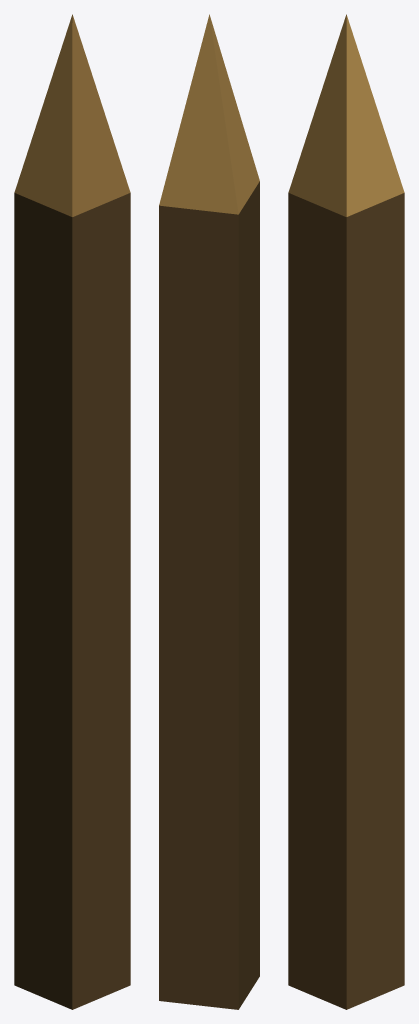
Rendered from SpikeSmall_01.fbx.
3 renders of one model, left to right at view 1: azimuth 90°, elevation 25°; view 2: azimuth 210°, elevation 25°; view 3: azimuth 270°, elevation 25°, orthographic.
Parts seen in each view (by area): view 1: SpikeSmall_01; view 2: SpikeSmall_01; view 3: SpikeSmall_01.
Part boxes in pixels (x1,y1,x2,y2): SpikeSmall_01: (14, 14, 130, 1009); SpikeSmall_01: (159, 14, 259, 1009); SpikeSmall_01: (288, 14, 404, 1009).
Size of the model in its own units: 0.3964 by 0.3964 by 3.66.
